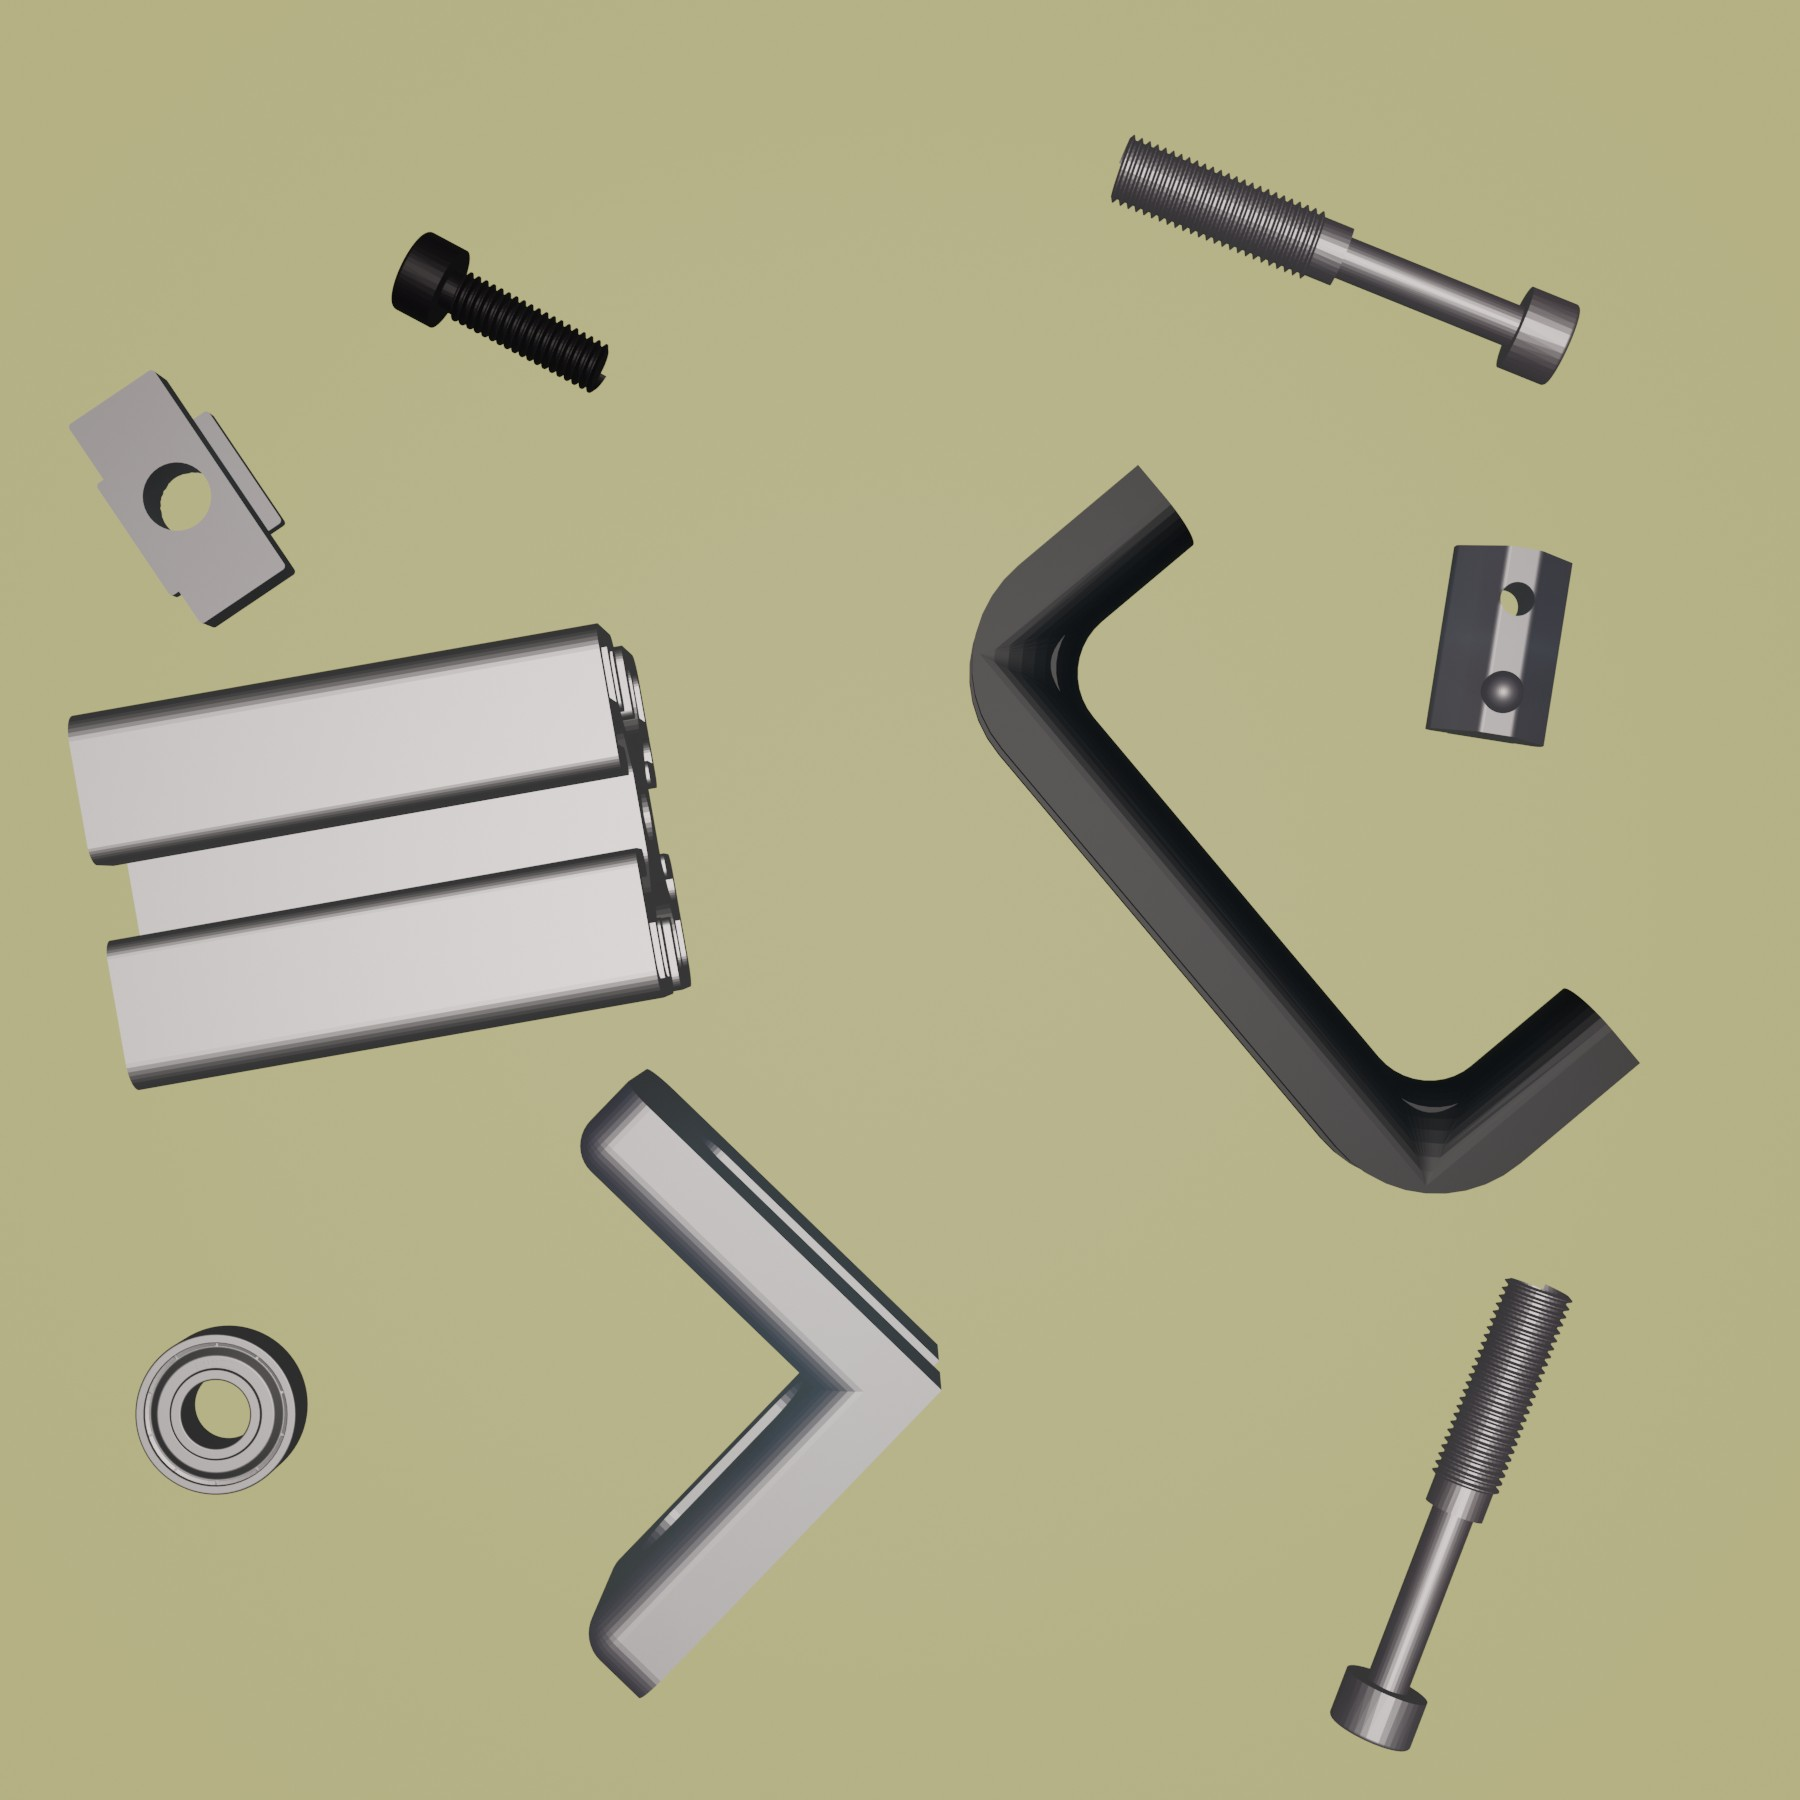Aluminium Extension: (64, 621, 694, 1091)
Ball Bearing: (132, 1320, 308, 1497)
Multiwinkel: (577, 1062, 948, 1701)
Pull Handle: (964, 463, 1643, 1197)
Shoulder Socket Head Cap Screw: (1104, 130, 1582, 386), (1327, 1274, 1574, 1754)
Socket Head Cap Screw: (387, 227, 612, 396)
T Nut Square: (63, 368, 293, 631)
T Spring Nut: (1421, 541, 1576, 750)
